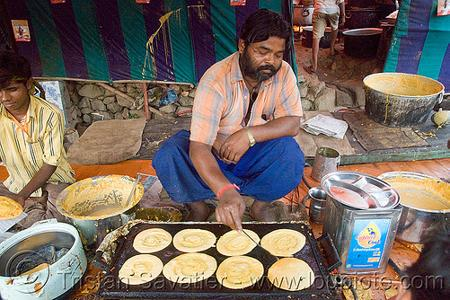person: (152, 12, 305, 228)
